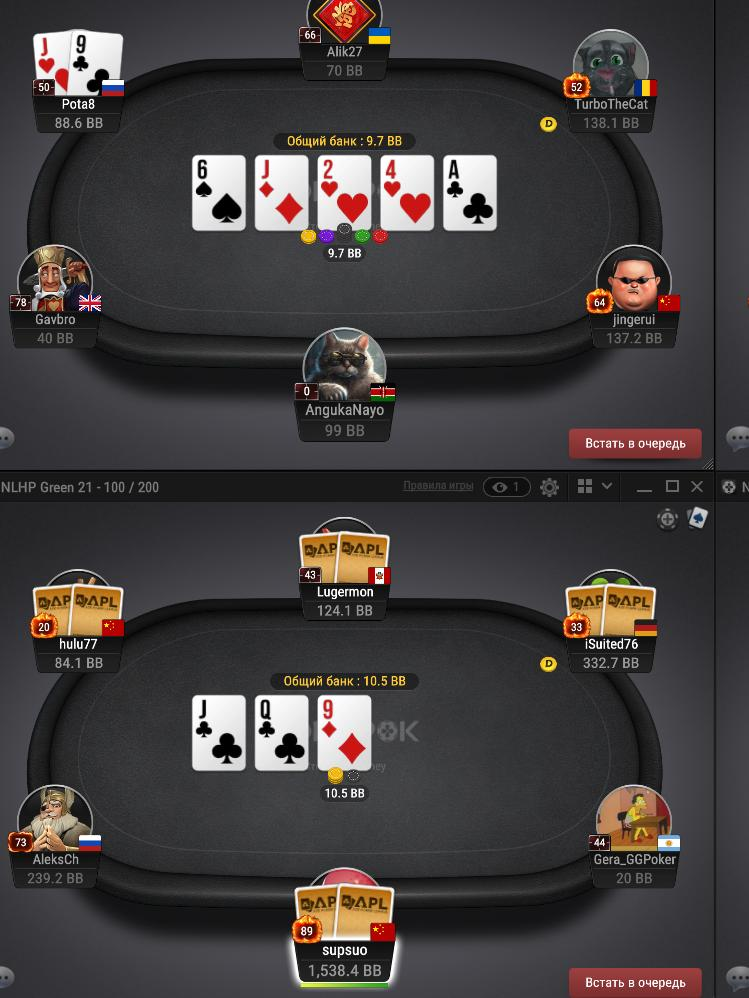2h: (318, 155, 370, 231)
4h: (382, 155, 435, 230)
6s: (194, 157, 245, 231)
9c: (71, 26, 125, 97)
9d: (318, 696, 371, 770)
Ac: (445, 155, 497, 228)
Jc: (191, 695, 246, 772)
Jd: (256, 156, 309, 231)
Jh: (31, 31, 73, 95)
Qc: (255, 696, 308, 768)
